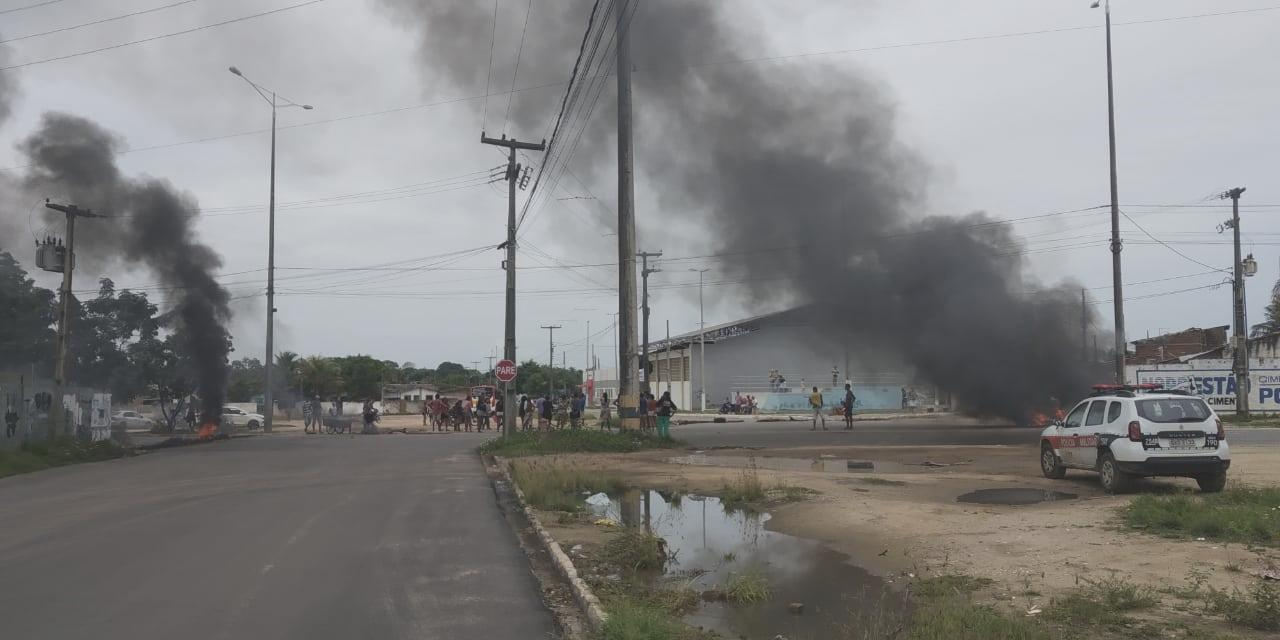Fire: (198, 423, 217, 440), (1053, 408, 1070, 421)
